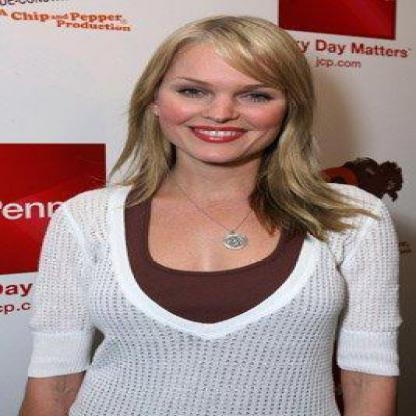long-hair: (109, 165, 335, 202)
